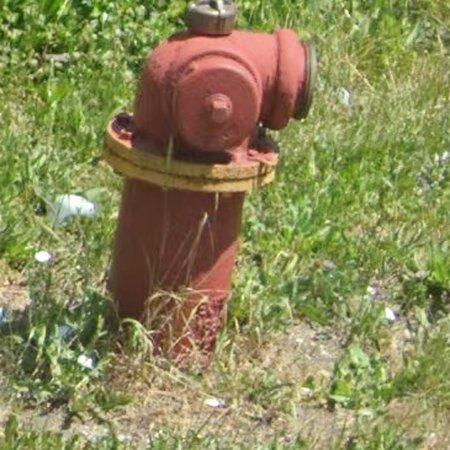a fire hydrant: (106, 0, 314, 365)
